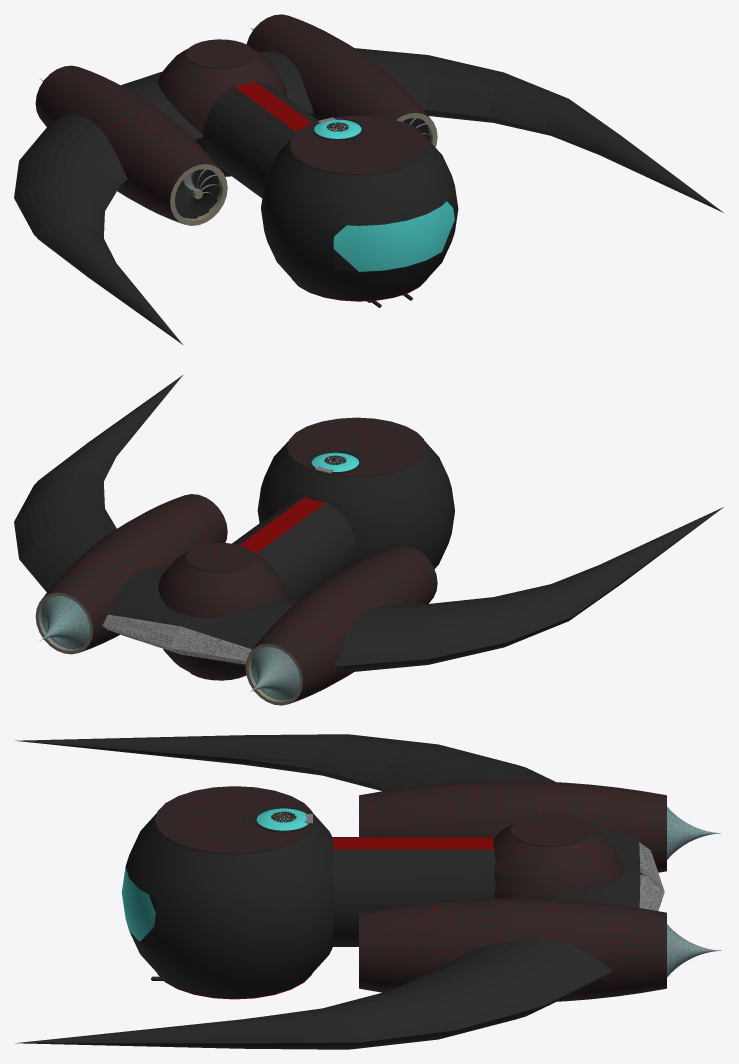
The picture shows the model from 3 angles, top to bottom: view 1: azimuth 30°, elevation 25°; view 2: azimuth 150°, elevation 25°; view 3: azimuth 270°, elevation 25°; orthographic projection. The views are drawn at different scales.
Visible parts, largest first — view 1: SketchUp; view 2: SketchUp; view 3: SketchUp.
Boxes of the visible parts, <box> form: SketchUp: <box>14,14,723,344</box>; SketchUp: <box>14,375,723,705</box>; SketchUp: <box>15,734,720,1049</box>.
Bounding box in the file's own units: 10.13 × 2.53 × 10.06.
